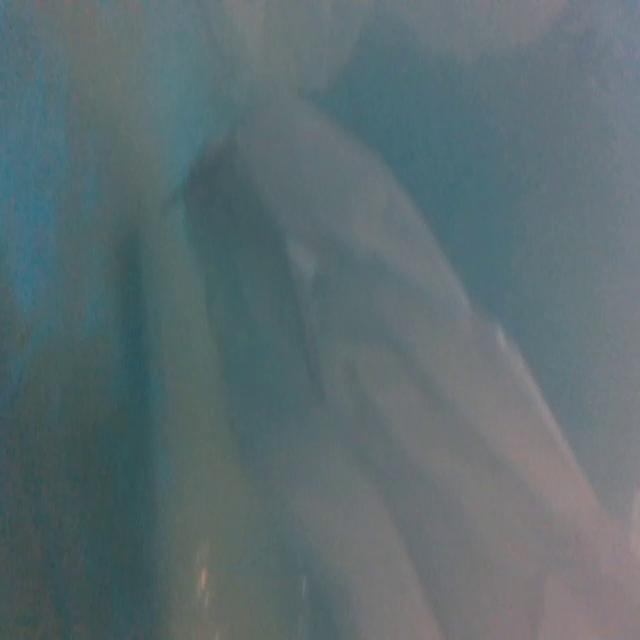plastic bags: (180, 82, 640, 640)
